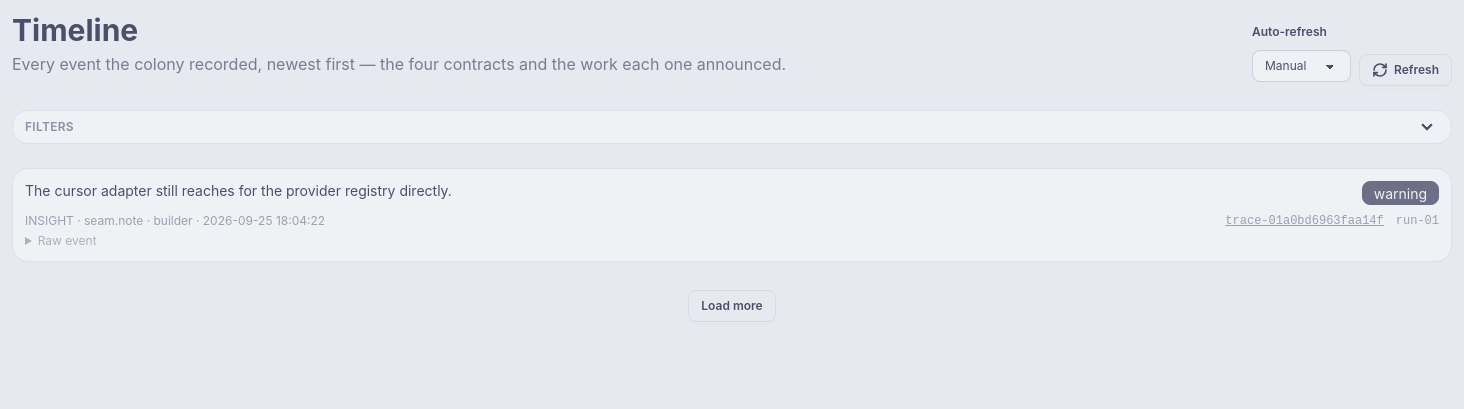
Test case: timeline route › keeps Load more after a failed page, so the button is not a dead end
The width and height of the screenshot is (1464, 409).
Click the button "Load more" at {"x": 732, "y": 306}, box [688,290,776,322]
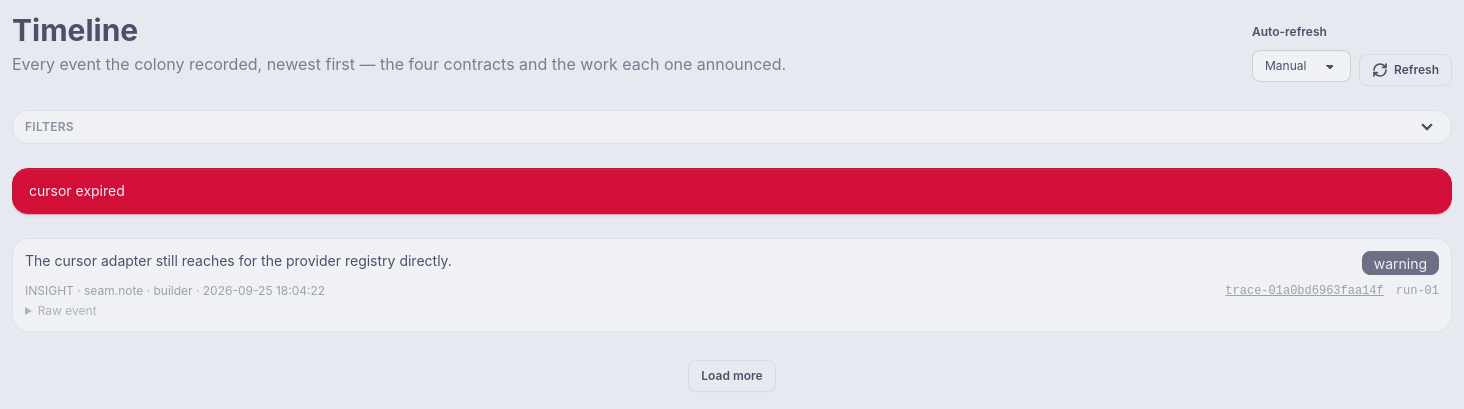
Expected: the button "Load more" is enabled, [688,360,776,392]
Now the message reads "cursor expired", box [29,182,125,199]
